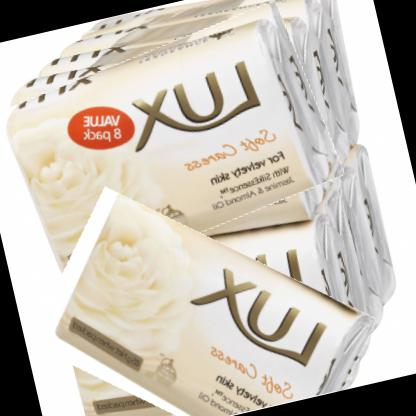soap: (0, 7, 348, 288), (16, 172, 381, 415)
